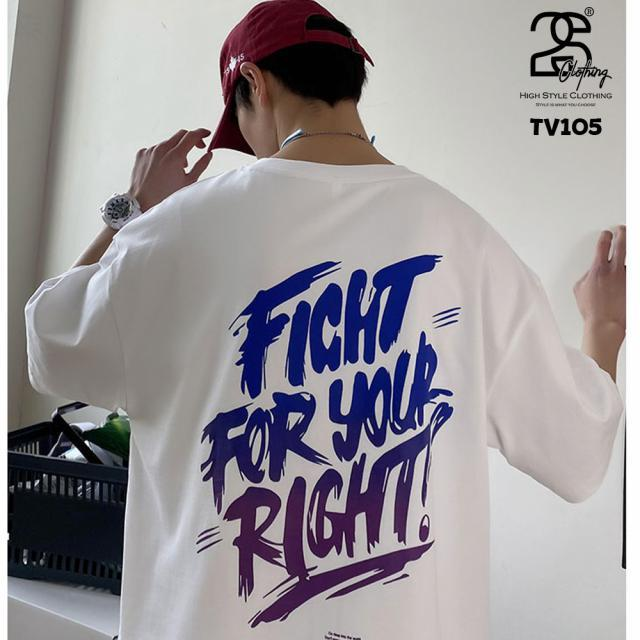Shirt: (21, 146, 624, 640)
